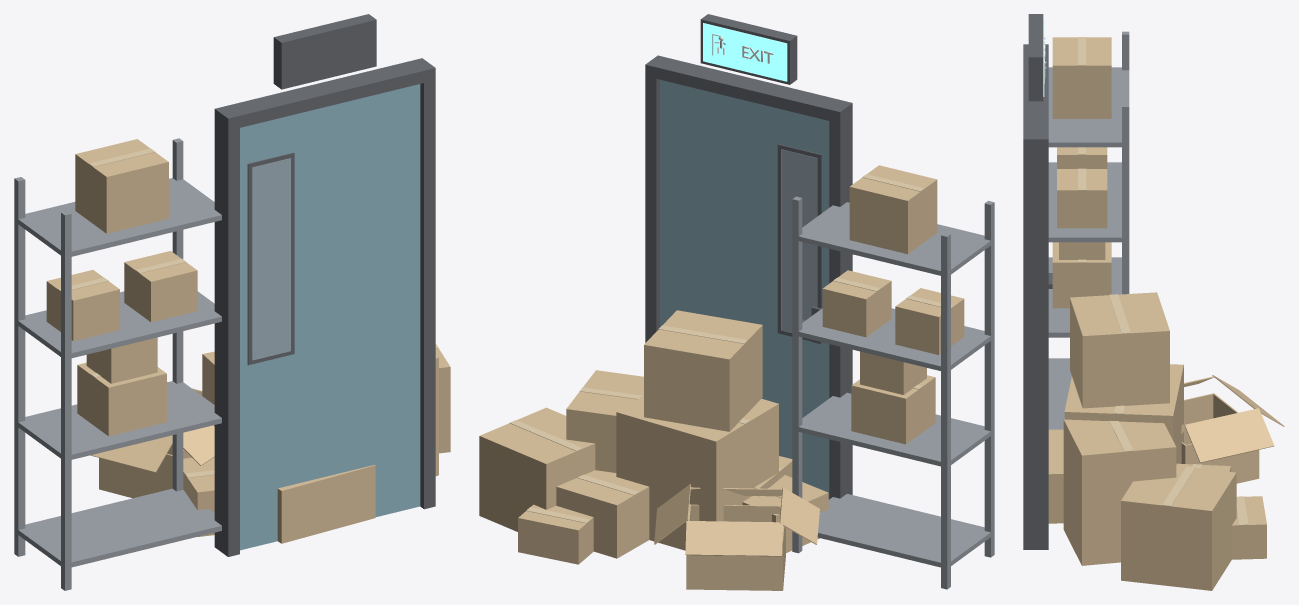
The model's file is blockedexit.fbx.
The picture shows the model from 3 angles, left to right: view 1: azimuth 30°, elevation 25°; view 2: azimuth 150°, elevation 25°; view 3: azimuth 270°, elevation 25°; orthographic projection. The views are drawn at different scales.
Visible parts, largest first — view 1: Door_Emergency_Exit_Assembly, Prop_Egress_Storage_Shelf, Hazard_Blocked_Boxes_Pile; view 2: Hazard_Blocked_Boxes_Pile, Door_Emergency_Exit_Assembly, Prop_Egress_Storage_Shelf; view 3: Hazard_Blocked_Boxes_Pile, Prop_Egress_Storage_Shelf, Door_Emergency_Exit_Assembly.
Boxes of the visible parts, bbox=[...] form: Door_Emergency_Exit_Assembly: bbox=[214, 14, 435, 556]; Prop_Egress_Storage_Shelf: bbox=[14, 138, 221, 590]; Hazard_Blocked_Boxes_Pile: bbox=[90, 344, 450, 543]; Hazard_Blocked_Boxes_Pile: bbox=[479, 310, 828, 590]; Door_Emergency_Exit_Assembly: bbox=[645, 14, 852, 499]; Prop_Egress_Storage_Shelf: bbox=[792, 165, 994, 589]; Hazard_Blocked_Boxes_Pile: bbox=[1048, 292, 1284, 590]; Prop_Egress_Storage_Shelf: bbox=[1048, 31, 1129, 429]; Door_Emergency_Exit_Assembly: bbox=[1023, 14, 1052, 549].
Bounding box in the file's own units: 234 × 246 × 124.
